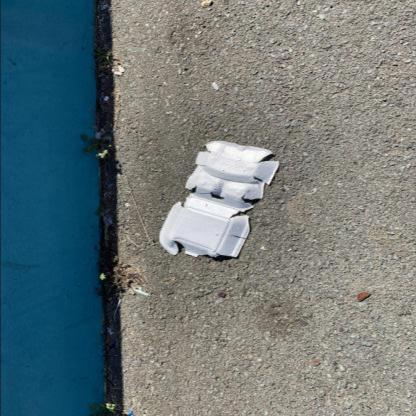Cigarette: (99, 65, 110, 69)
Other plastic: (113, 299, 121, 321), (133, 286, 149, 294), (211, 82, 219, 90)
Plastic container: (159, 141, 279, 258)
Unlabeled litter: (95, 132, 101, 140), (103, 218, 112, 223), (128, 410, 134, 415)
